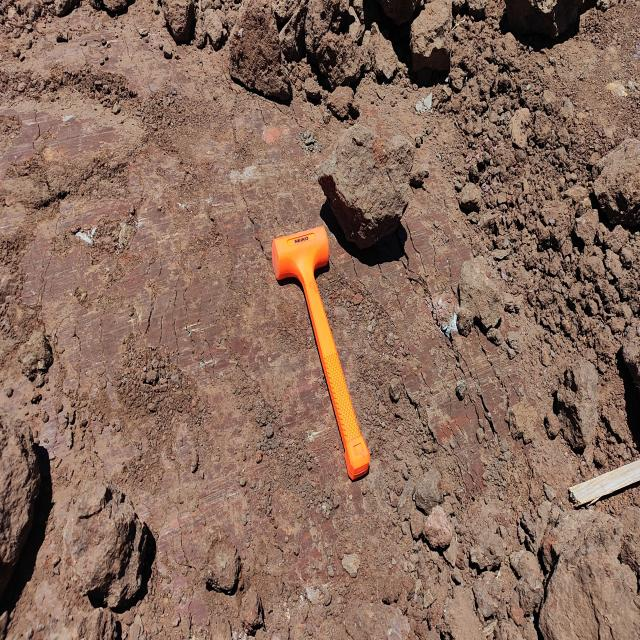Orange_hammer: (270, 224, 370, 482)
